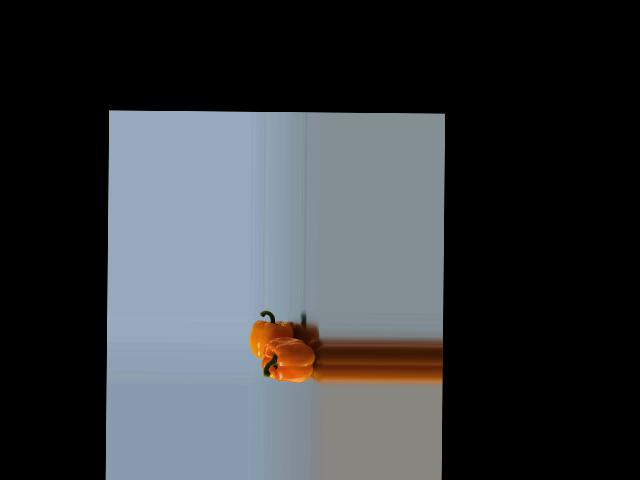bell_pepper: (249, 311, 301, 360)
